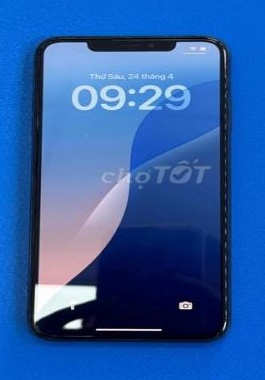scratch: (14, 28, 73, 58)
